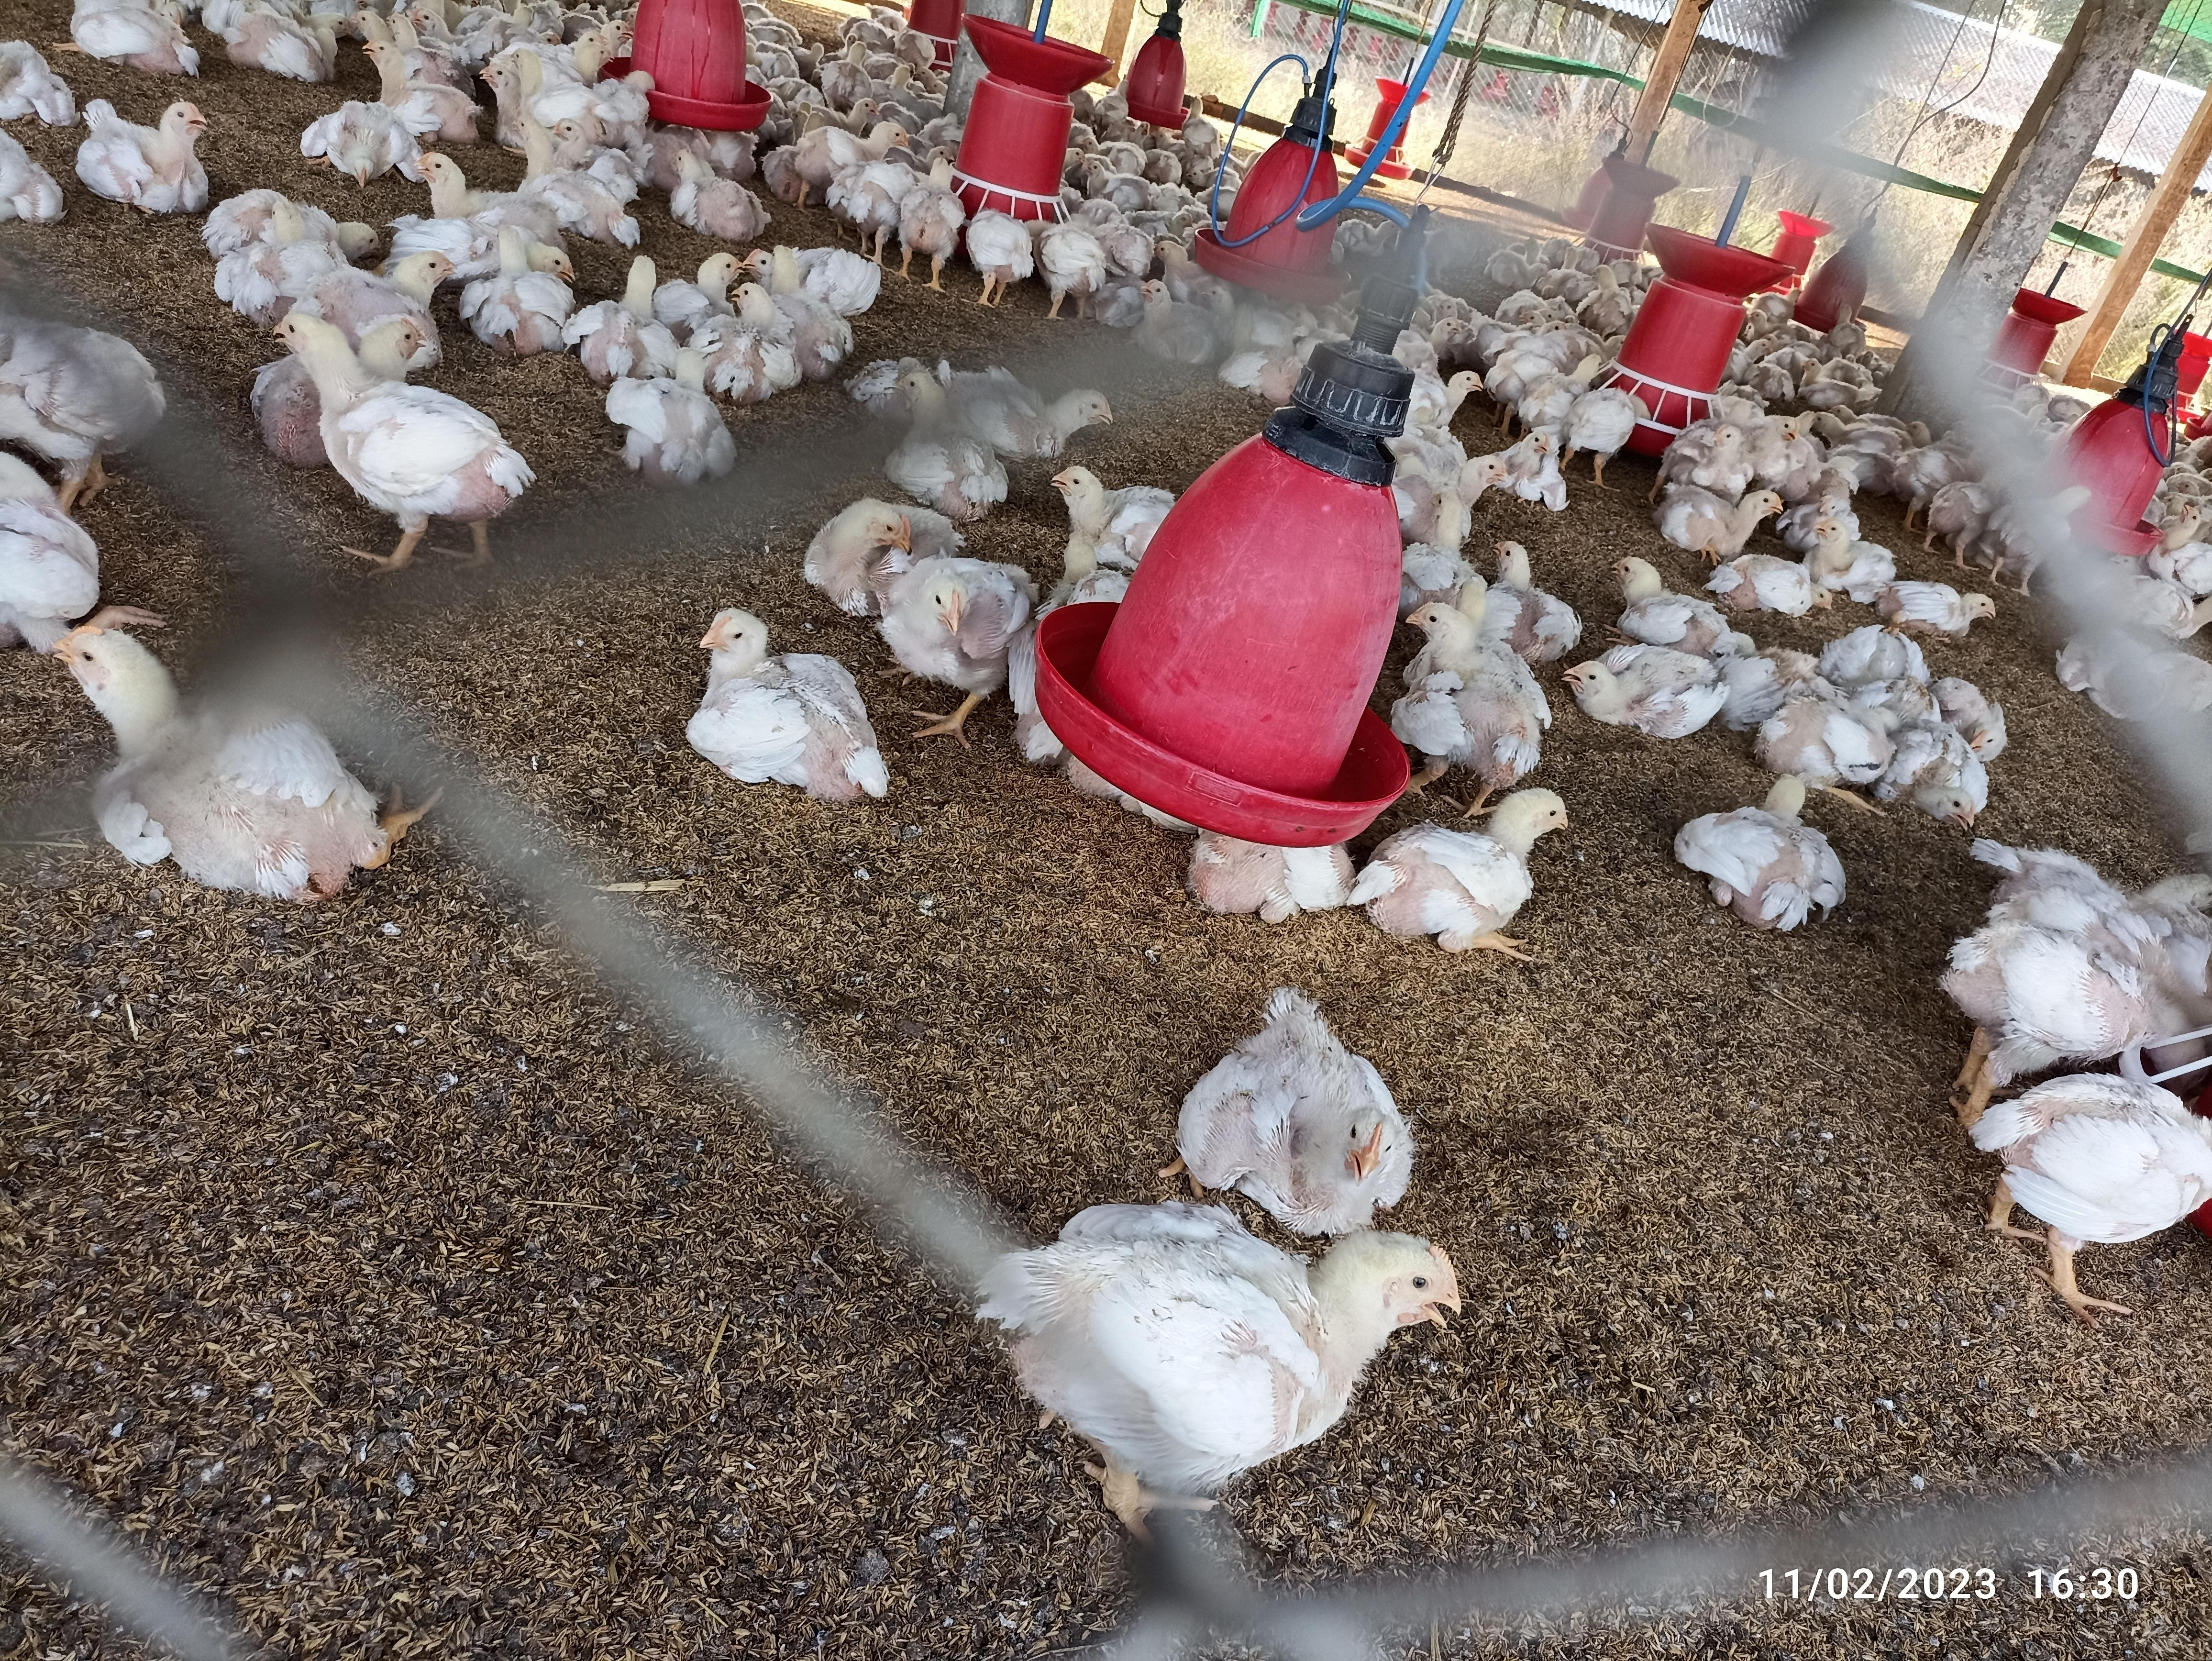Pollos: (1019, 1202, 1472, 1476), (49, 607, 408, 899), (1162, 986, 1429, 1221), (262, 304, 527, 536), (1362, 778, 1582, 967), (682, 614, 893, 803), (1675, 771, 1844, 926), (1406, 600, 1551, 776), (898, 548, 1024, 694), (1567, 635, 1729, 742), (72, 96, 223, 195), (413, 150, 565, 249), (604, 370, 745, 475), (727, 274, 862, 370), (1650, 483, 1792, 553), (1888, 728, 1987, 825), (1888, 572, 2001, 654), (1483, 420, 1568, 508), (794, 117, 912, 171)
